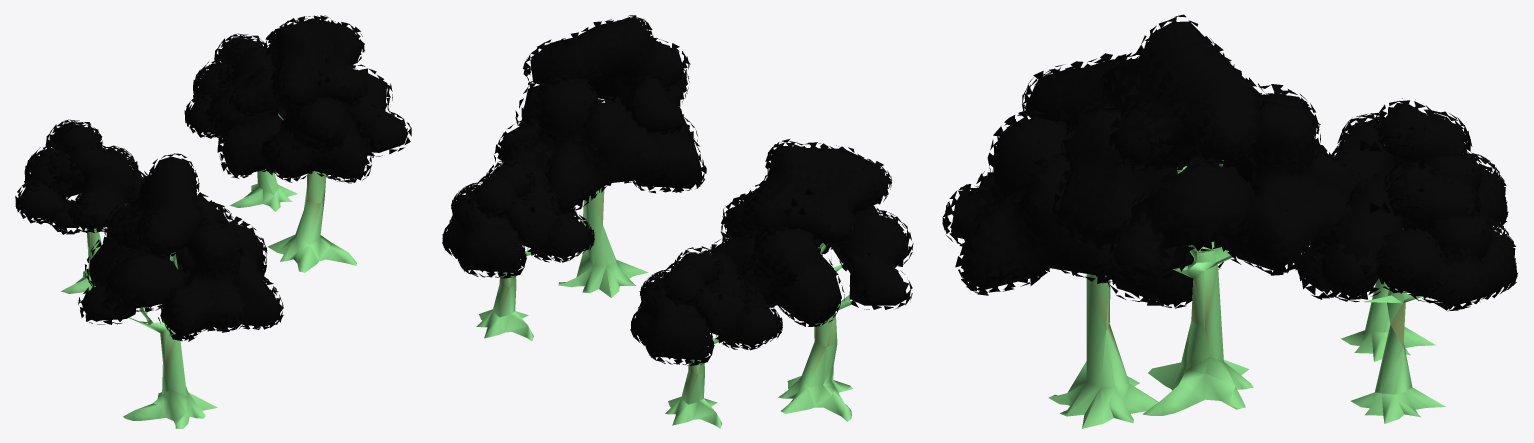
The model's file is SM_ENV_LKNVLD_TreeSet_N_Lod3.gltf.
The picture shows the model from 3 angles, left to right: view 1: azimuth 30°, elevation 25°; view 2: azimuth 150°, elevation 25°; view 3: azimuth 270°, elevation 25°; orthographic projection. The views are drawn at different scales.
Visible parts, largest first — view 1: SM_ENV_LKNVLD_TreeSet_N_Lod3; view 2: SM_ENV_LKNVLD_TreeSet_N_Lod3; view 3: SM_ENV_LKNVLD_TreeSet_N_Lod3.
Boxes of the visible parts, x1=… form: SM_ENV_LKNVLD_TreeSet_N_Lod3: x1=15, y1=15, x2=411, y2=428; SM_ENV_LKNVLD_TreeSet_N_Lod3: x1=442, y1=15, x2=913, y2=428; SM_ENV_LKNVLD_TreeSet_N_Lod3: x1=942, y1=14, x2=1517, y2=428.
Bounding box in the file's own units: 19.65 × 19.06 × 19.98.
